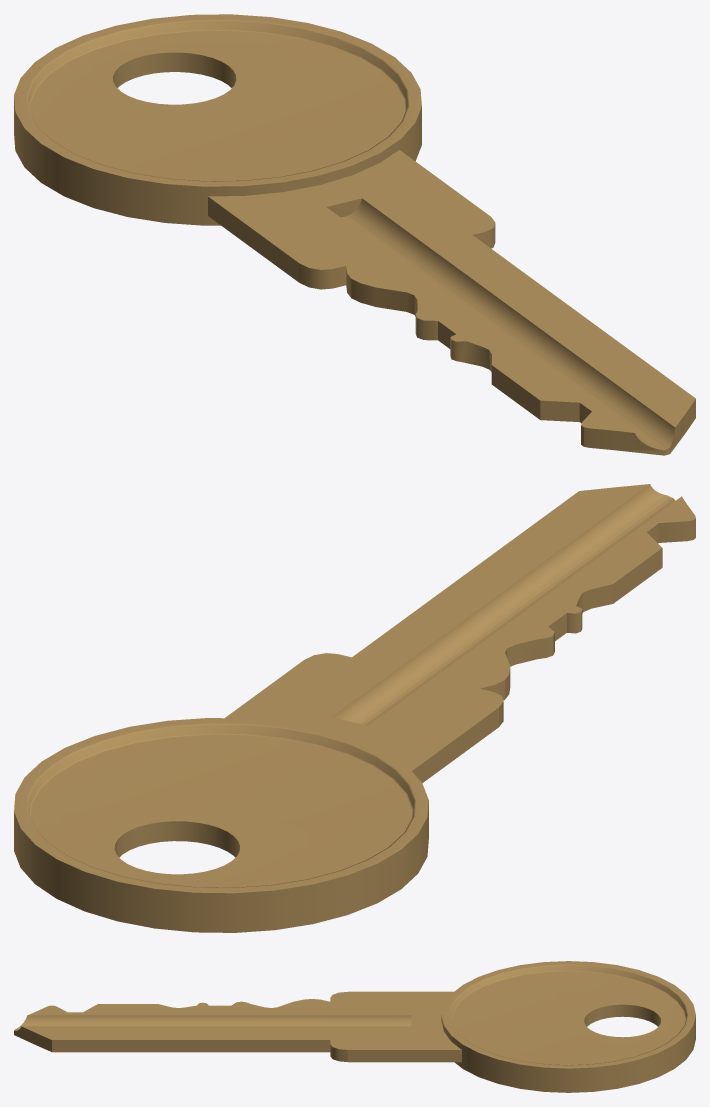
File: key4.fbx
3 views of the same model, one above another, from view 1: azimuth 30°, elevation 25°; view 2: azimuth 150°, elevation 25°; view 3: azimuth 270°, elevation 25° (orthographic). The views are drawn at different scales.
Visible parts, largest first — view 1: key4; view 2: key4; view 3: key4.
Part boxes in pixels (<box>): key4: <box>14,14,695,455</box>; key4: <box>14,484,695,932</box>; key4: <box>14,961,695,1092</box>.
Bounding box in the file's own units: 11.61 × 1.22 × 31.11.
